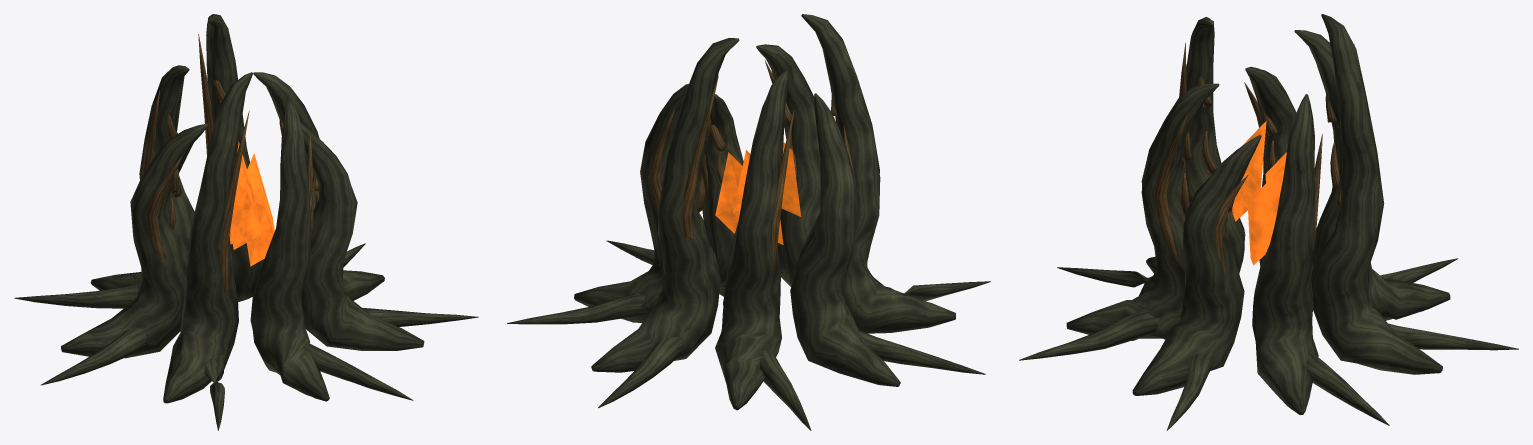
File: briarwake.glb
The picture shows the model from 3 angles, left to right: view 1: azimuth 30°, elevation 25°; view 2: azimuth 150°, elevation 25°; view 3: azimuth 270°, elevation 25°; orthographic projection. The views are drawn at different scales.
Parts seen in each view (by area): view 1: Rib_4, Rib_5, Rib_3, Rib_6, Rib_2, Rib_1, Rib_0, Core_2, Core_0; view 2: Rib_1, Rib_2, Rib_3, Rib_4, Rib_0, Rib_5, Rib_6, Core_0, Core_2, Core_1; view 3: Rib_1, Rib_0, Rib_6, Rib_5, Rib_2, Rib_4, Rib_3, Core_0, Core_2.
Part boxes in pixels (x1,y1,x2,y2): Rib_4: [163, 72, 252, 430]; Rib_5: [250, 98, 413, 401]; Rib_3: [41, 123, 208, 385]; Rib_6: [300, 122, 478, 350]; Rib_2: [14, 65, 194, 308]; Rib_1: [198, 14, 264, 302]; Rib_0: [253, 72, 384, 300]; Core_2: [230, 141, 261, 249]; Core_0: [247, 153, 274, 266]; Rib_1: [591, 38, 739, 408]; Rib_2: [715, 70, 811, 430]; Rib_3: [790, 93, 985, 386]; Rib_4: [801, 14, 990, 333]; Rib_0: [507, 84, 709, 324]; Rib_5: [756, 44, 868, 286]; Rib_6: [606, 94, 743, 296]; Core_0: [715, 152, 742, 233]; Core_2: [781, 142, 801, 216]; Core_1: [733, 150, 783, 244]; Rib_1: [1311, 14, 1518, 374]; Rib_0: [1252, 94, 1389, 425]; Rib_6: [1132, 135, 1261, 430]; Rib_5: [1019, 83, 1219, 360]; Rib_2: [1294, 30, 1457, 320]; Rib_4: [1057, 17, 1245, 287]; Rib_3: [1244, 67, 1312, 271]; Core_0: [1247, 165, 1284, 265]; Core_2: [1232, 121, 1266, 221].
Size of the model in its own units: 6.69 by 4.89 by 6.78.
Materials: 3 (3 with a texture image).
